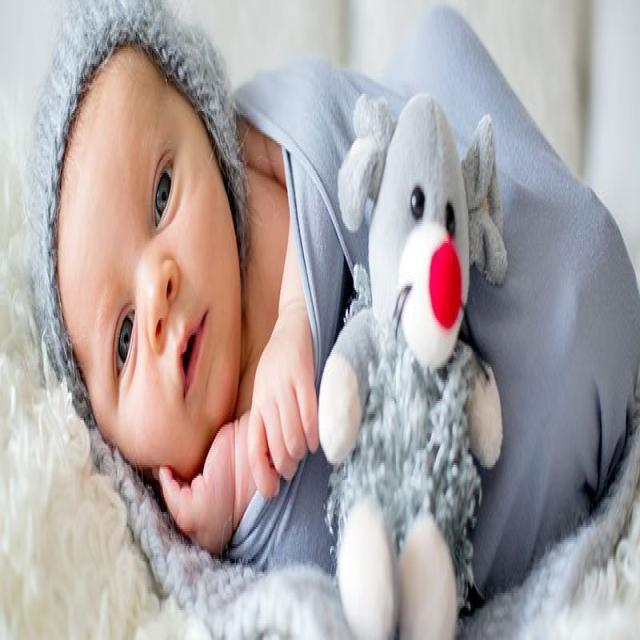non-dog: (5, 1, 639, 634)
